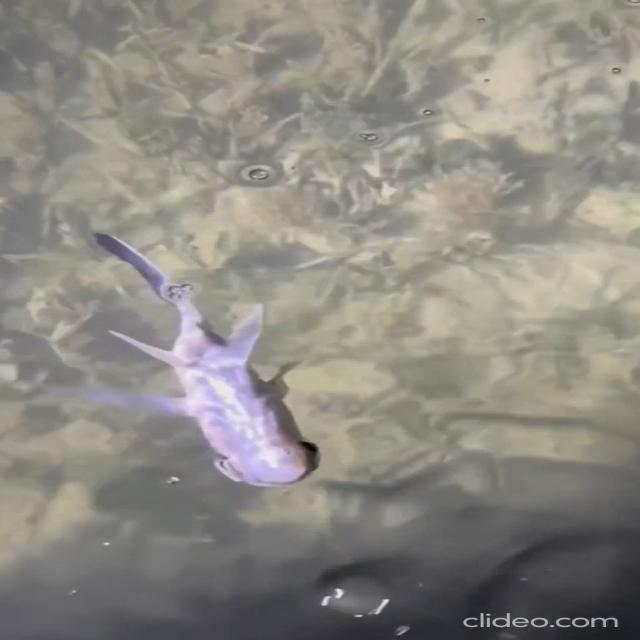fish: (81, 223, 356, 488)
